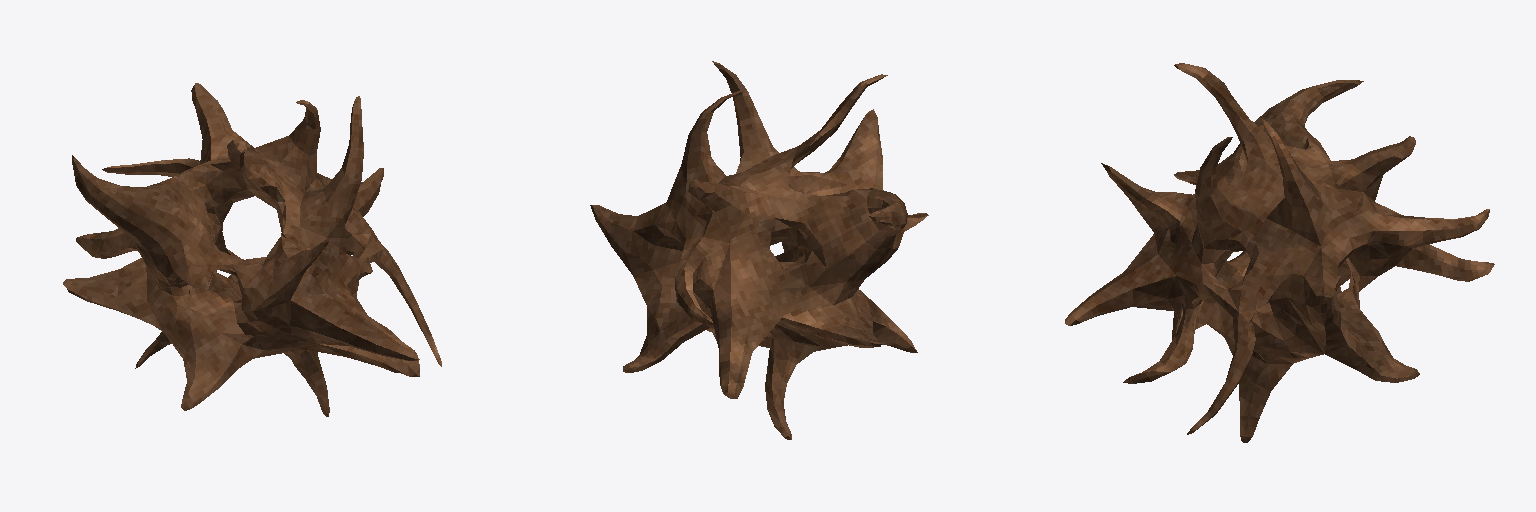
3 views of the same model, side by side, from view 1: azimuth 30°, elevation 25°; view 2: azimuth 150°, elevation 25°; view 3: azimuth 270°, elevation 25° (orthographic).
Parts seen in each view (by area): view 1: art_twis_Icosphere; view 2: art_twis_Icosphere; view 3: art_twis_Icosphere.
Part boxes in pixels (left/top/right/bottom): art_twis_Icosphere: left=63, top=83, right=441, bottom=416; art_twis_Icosphere: left=590, top=61, right=928, bottom=439; art_twis_Icosphere: left=1065, top=63, right=1494, bottom=442.
Size of the model in its own units: 5.43 by 5.48 by 6.62.
Materials: 1 (1 with a texture image).